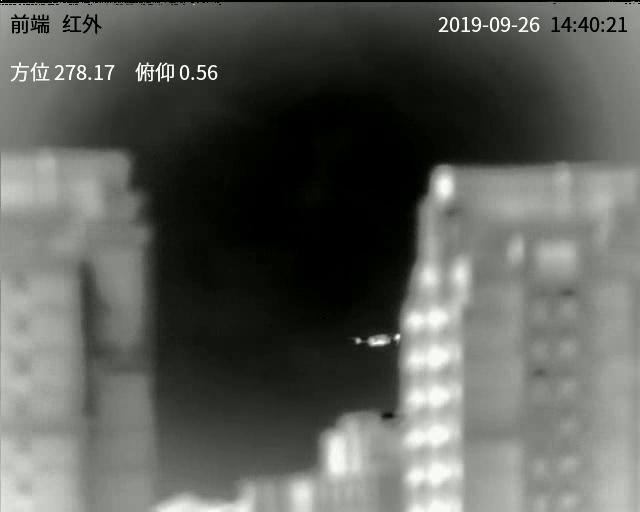DRONE: (353, 332, 401, 348)
